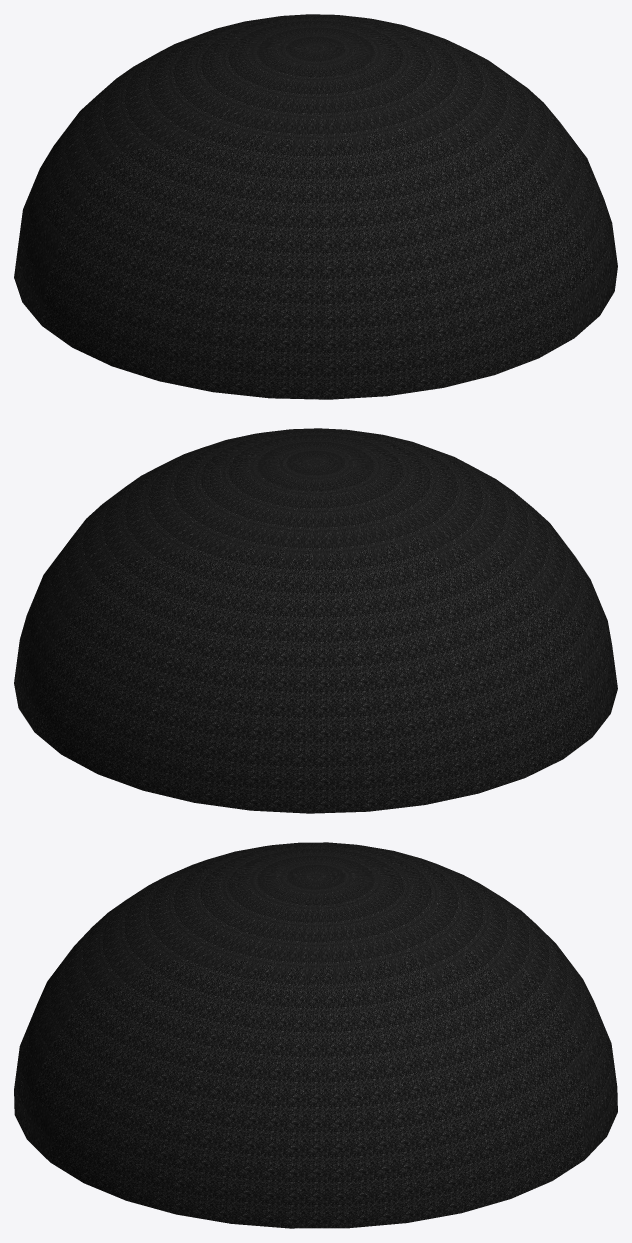
Rendered from btl_stg_common_airport_00.fbx.
The picture shows the model from 3 angles, top to bottom: view 1: azimuth 30°, elevation 25°; view 2: azimuth 150°, elevation 25°; view 3: azimuth 270°, elevation 25°; orthographic projection.
Parts seen in each view (by area): view 1: skybox_up__MOD; view 2: skybox_up__MOD; view 3: skybox_up__MOD.
Part boxes in pixels (bbox=[...]): skybox_up__MOD: bbox=[14, 14, 617, 399]; skybox_up__MOD: bbox=[14, 428, 617, 813]; skybox_up__MOD: bbox=[14, 842, 617, 1228].
Size of the model in its own units: 61.64 by 25.98 by 61.64.
40 materials, 36 textured.
